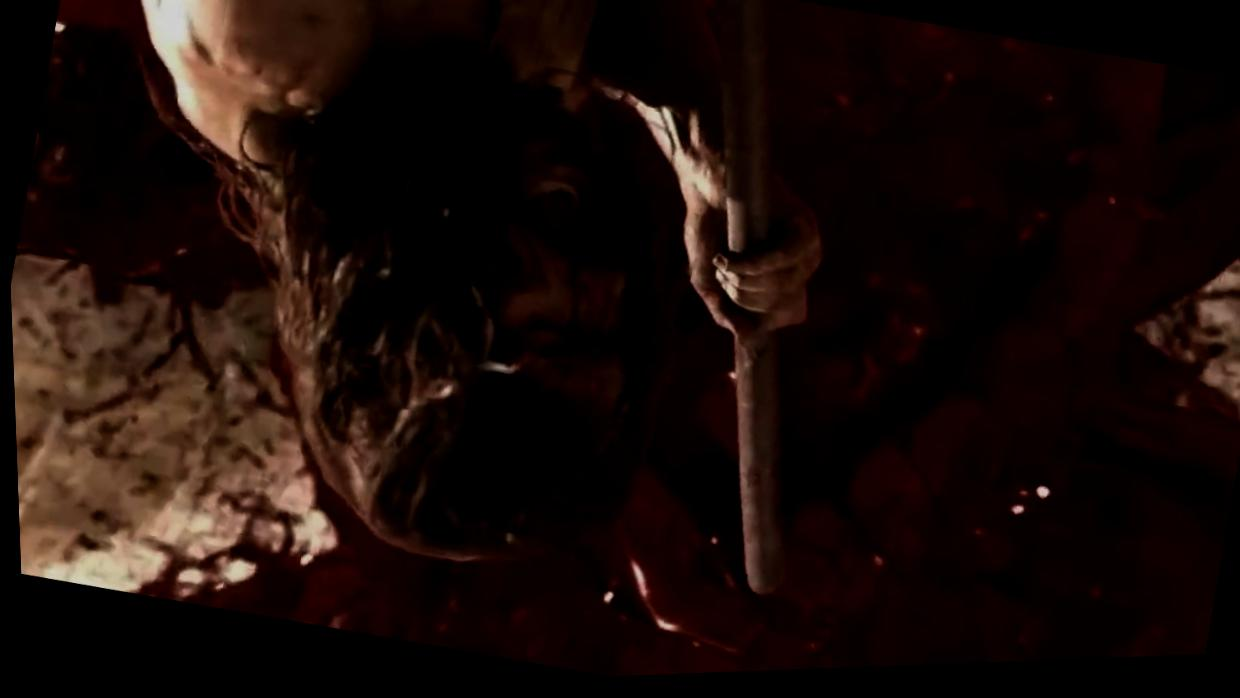Fire: (8, 0, 1240, 681)
